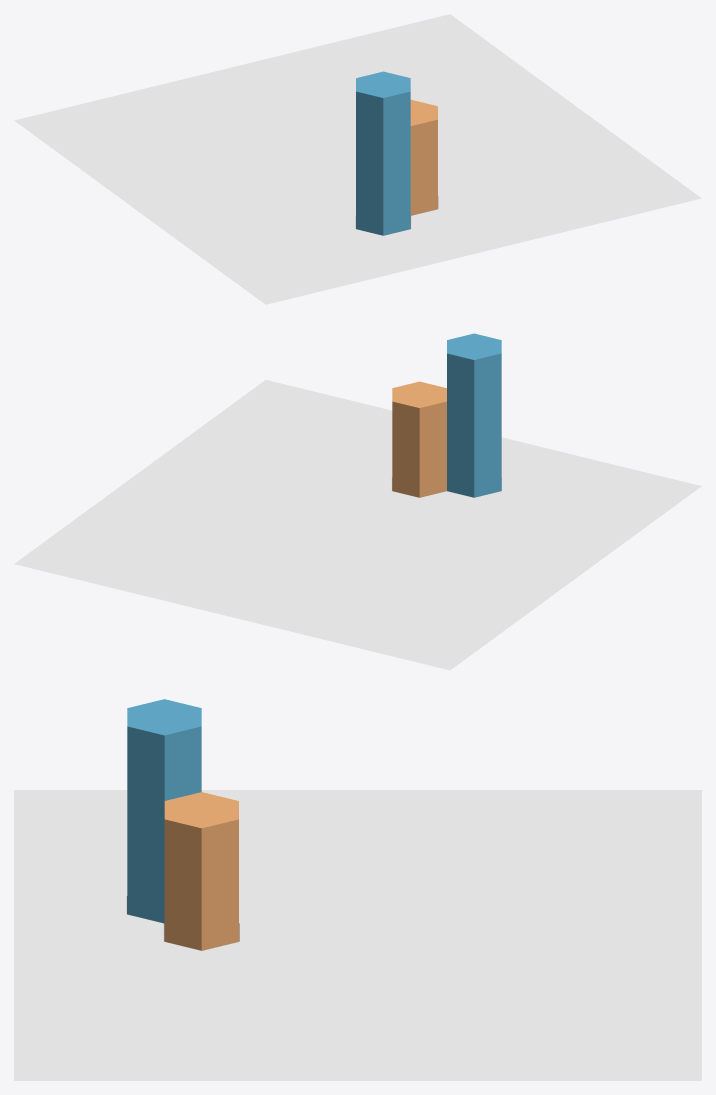
The model's file is secundario.gltf.
3 views of the same model, one above another, from view 1: azimuth 30°, elevation 25°; view 2: azimuth 150°, elevation 25°; view 3: azimuth 270°, elevation 25° (orthographic). The views are drawn at different scales.
Parts seen in each view (by area): view 1: GSI Elevation Tile, Cuadrícula; view 2: GSI Elevation Tile, Cuadrícula; view 3: GSI Elevation Tile, Cuadrícula.
Boxes of the visible parts, left/top/right/bottom form: GSI Elevation Tile: left=14, top=14, right=701, bottom=304; Cuadrícula: left=356, top=71, right=437, bottom=235; GSI Elevation Tile: left=14, top=380, right=701, bottom=670; Cuadrícula: left=392, top=333, right=501, bottom=497; GSI Elevation Tile: left=14, top=790, right=701, bottom=1080; Cuadrícula: left=127, top=699, right=238, bottom=950.
Bounding box in the file's own units: 0.1846 × 0.0556 × 0.1846.
Materials: 3 (1 with a texture image).
